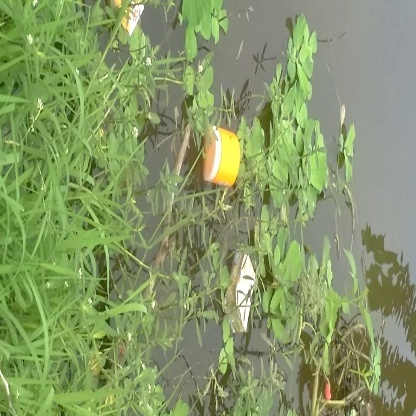bottle: (194, 119, 245, 195)
milk-box: (222, 247, 261, 337)
